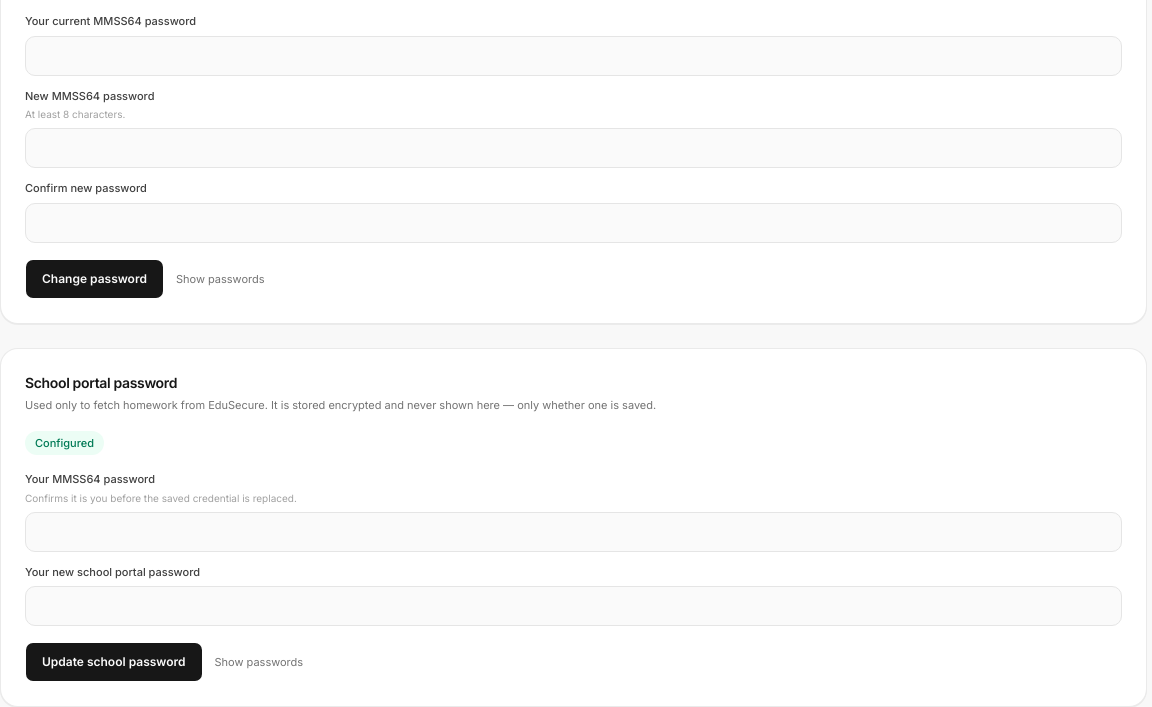
AccountSecurityPanel › updates the school credential through a form that never shows its current value
(page scrolled)
Type "app-password" into the password field labelled "Your MMSS64 password" at x=574, y=532, box [25,512,1122,552]
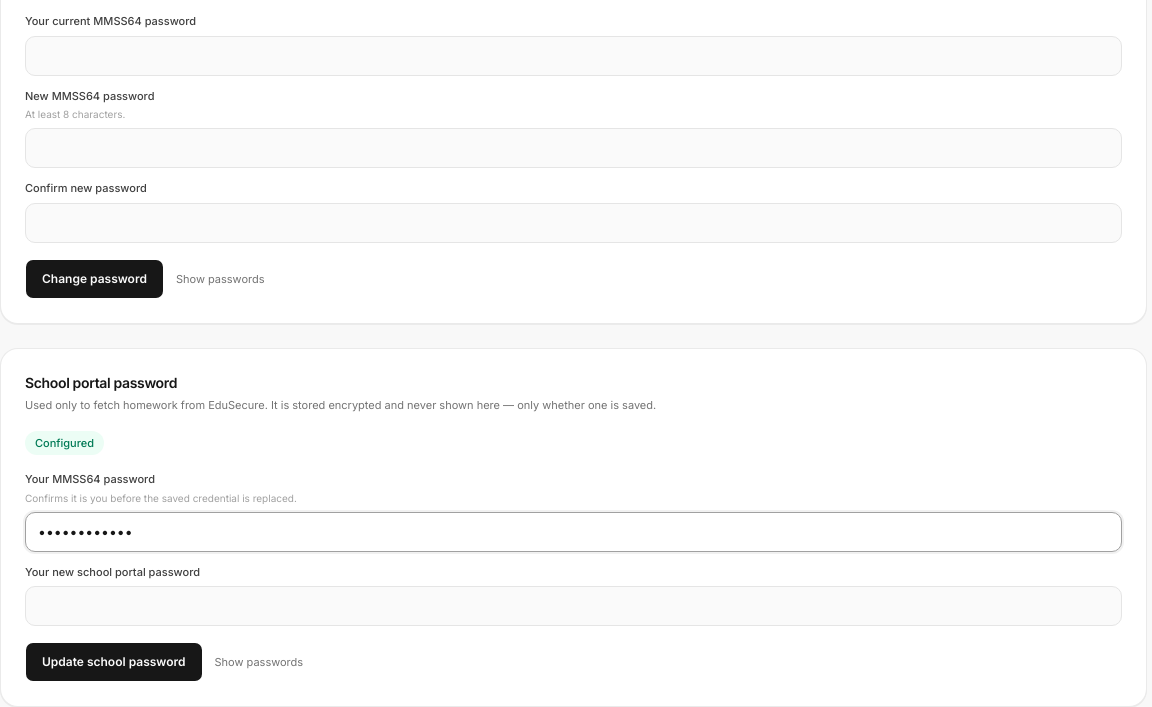
Type "new-portal-password" into the password field labelled "Your new school portal password" at x=574, y=606, box [25,586,1122,626]
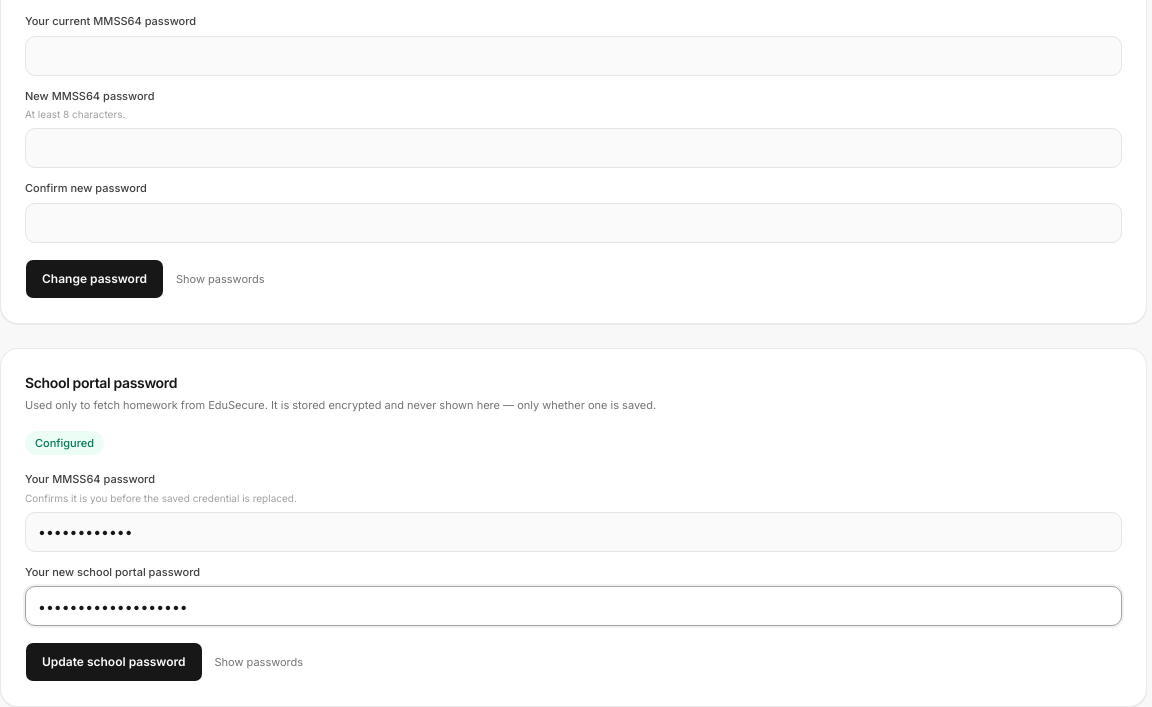
Click the button "Update school password" at x=114, y=662, box [25,642,202,682]
(page scrolled)
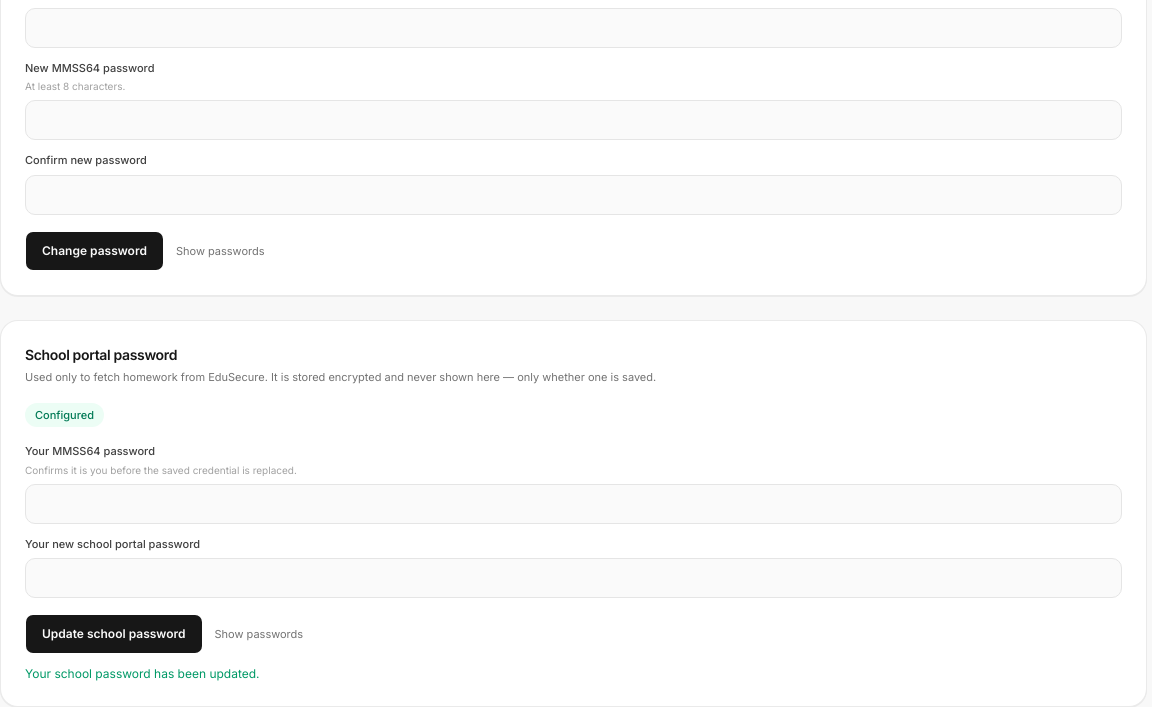
Expected: the text "Your school password has been updated." is shown, [25,666,260,682]
